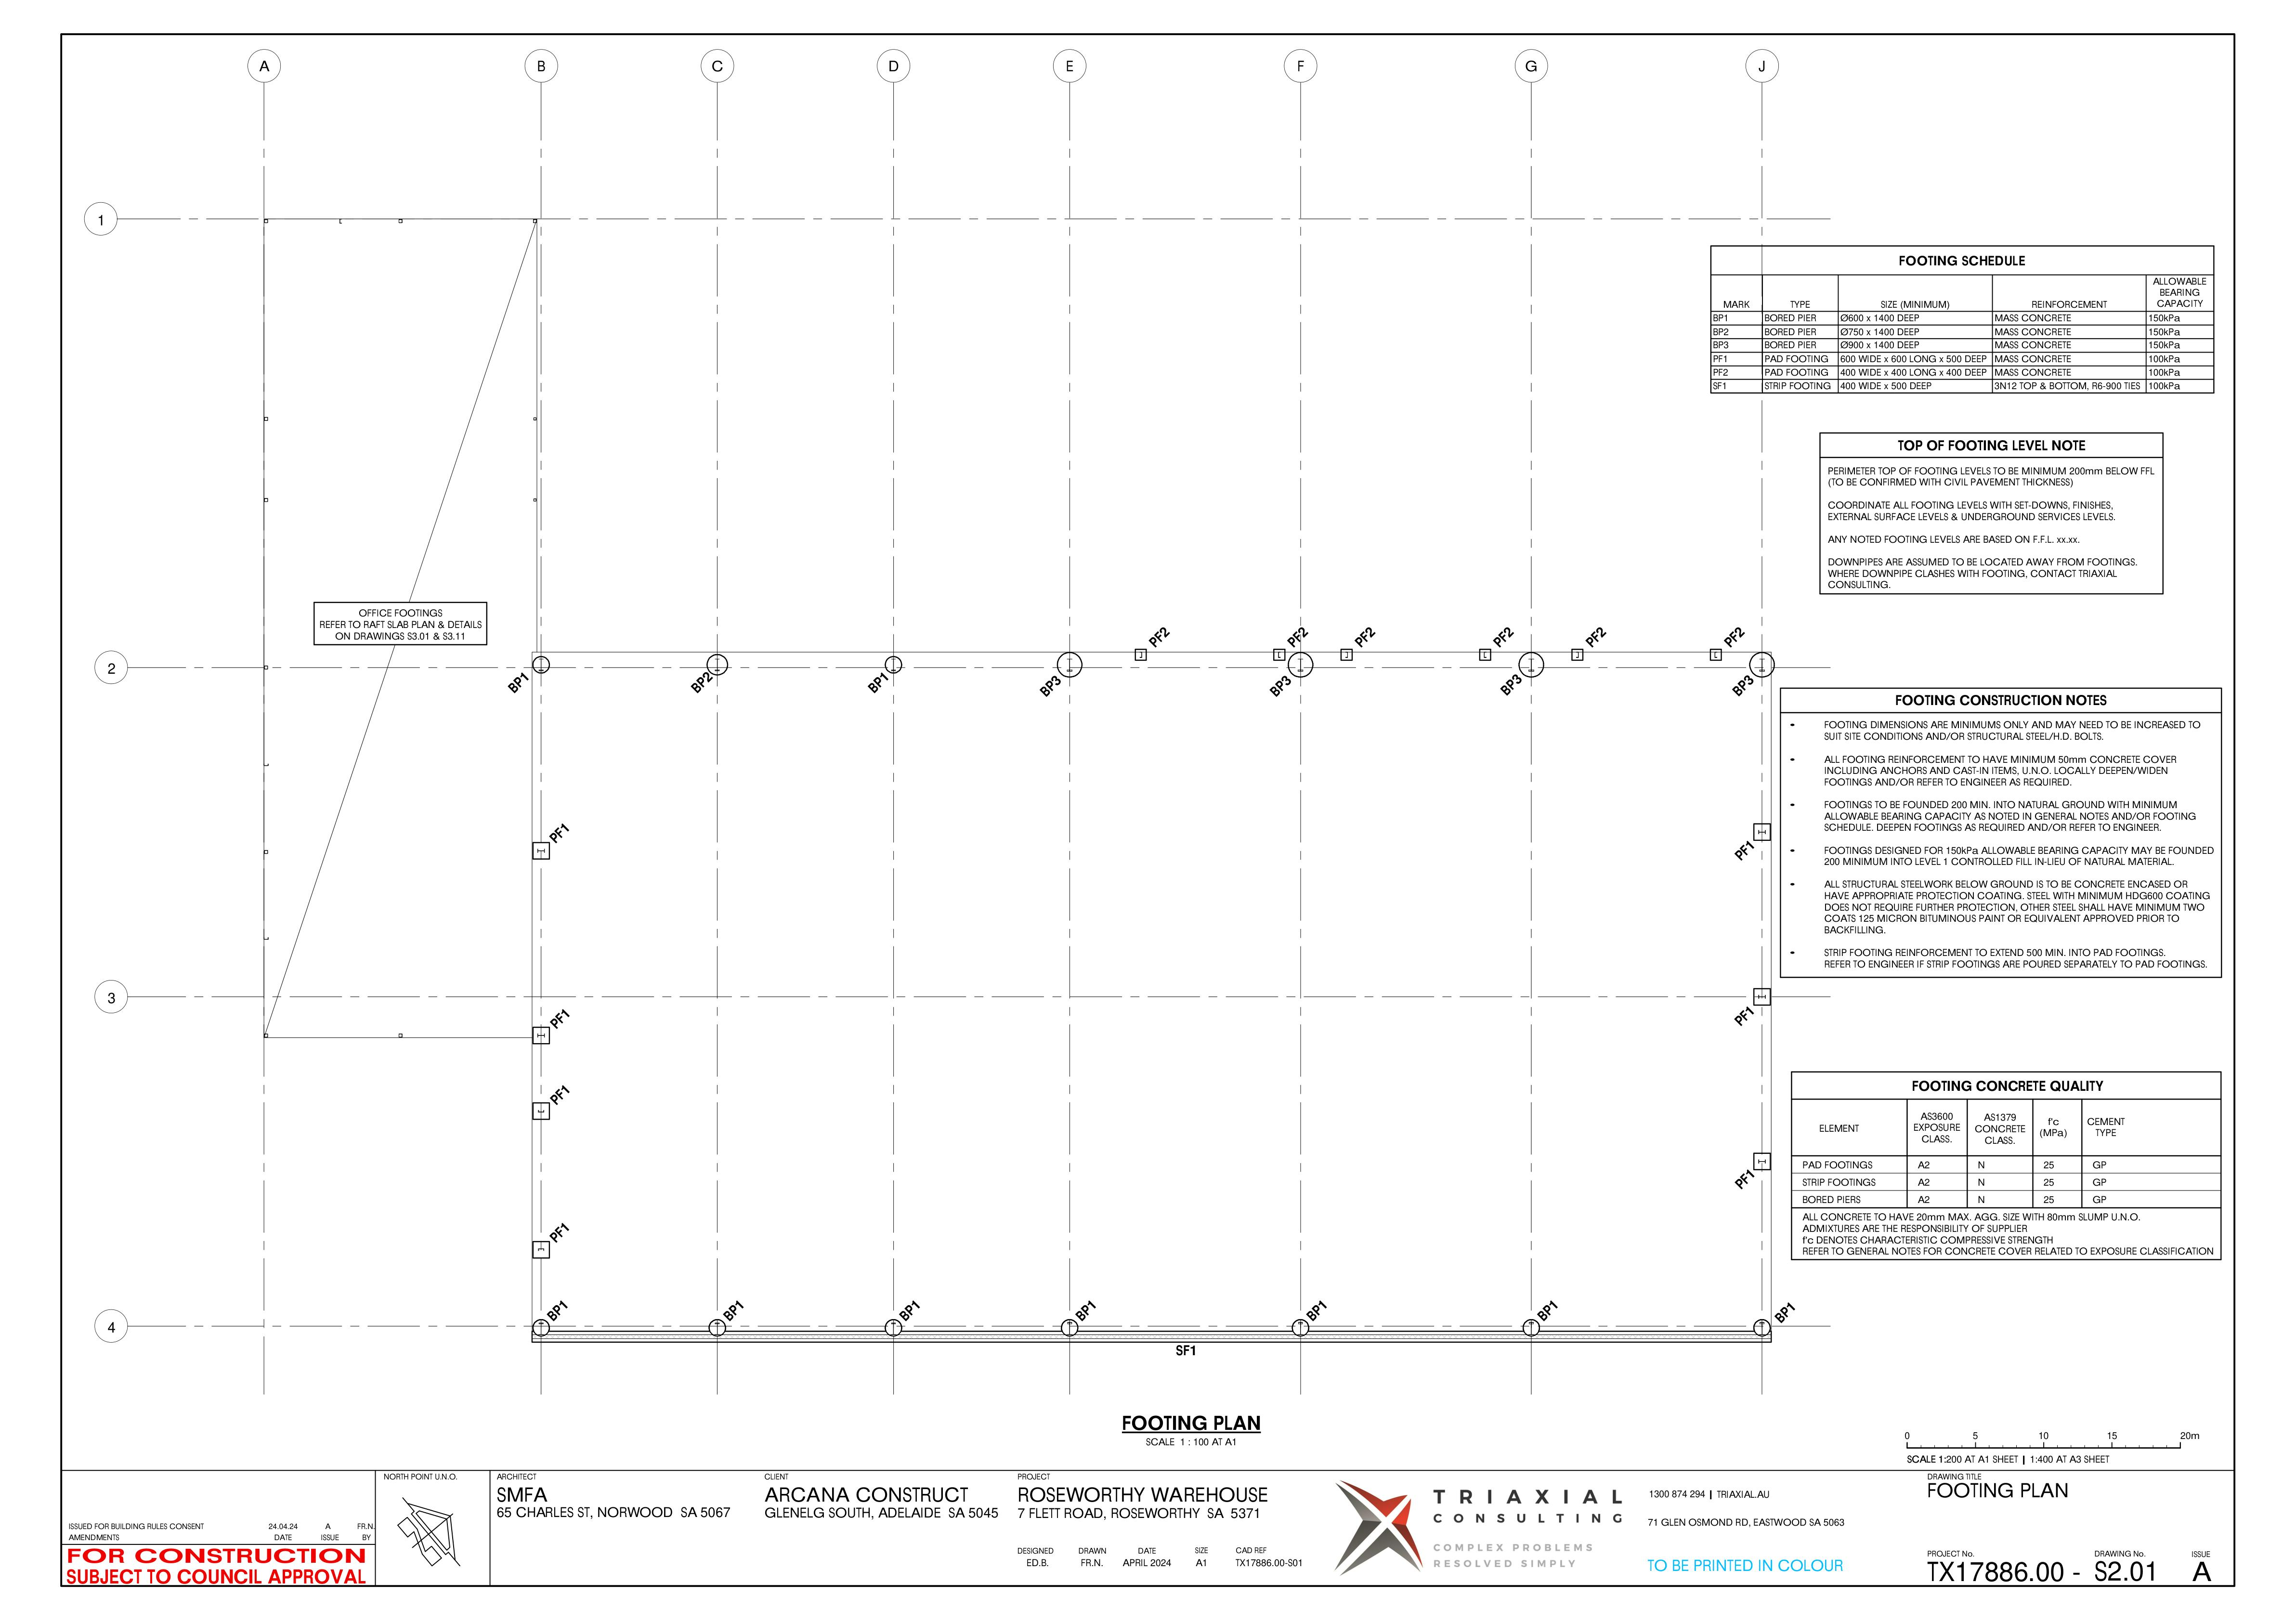BP1: (1531, 1297, 1562, 1327), (1771, 1297, 1801, 1329), (546, 1297, 578, 1325), (864, 669, 893, 697), (504, 667, 530, 699), (897, 1292, 923, 1324), (721, 1299, 751, 1325), (1304, 1299, 1331, 1325), (1078, 1294, 1097, 1324)
BP2: (686, 669, 716, 695)
BP3: (1262, 676, 1299, 704), (1037, 671, 1067, 699), (1496, 674, 1522, 699), (1734, 665, 1754, 699)
PF1: (1727, 834, 1752, 865), (551, 1006, 578, 1034), (1731, 1002, 1757, 1029), (544, 820, 572, 844), (1731, 1169, 1755, 1194), (551, 1083, 576, 1108), (549, 1220, 572, 1245)
PF2: (1583, 623, 1613, 651), (1143, 627, 1178, 650), (1718, 627, 1747, 651), (1357, 628, 1383, 651), (1288, 625, 1317, 646), (1490, 625, 1517, 646)
SF1: (1171, 1343, 1204, 1364)
